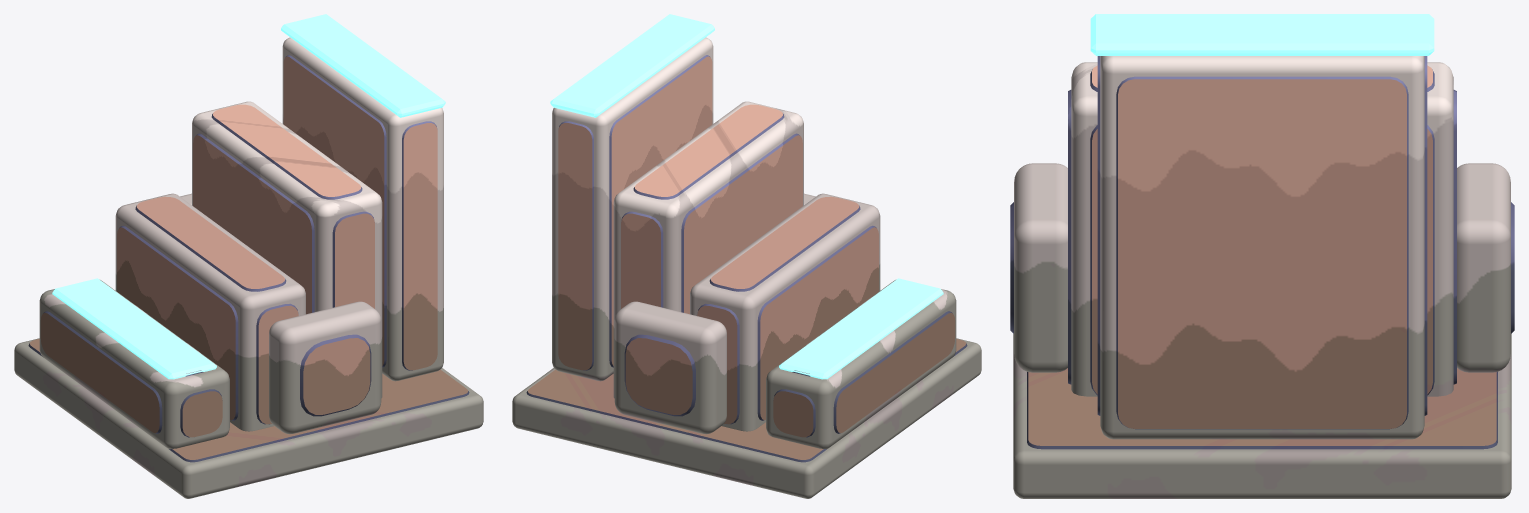
The model's file is R4X_ModuleAmplifier.glb.
3 views of the same model, side by side, from view 1: azimuth 30°, elevation 25°; view 2: azimuth 150°, elevation 25°; view 3: azimuth 270°, elevation 25° (orthographic). The views are drawn at different scales.
Parts seen in each view (by area): view 1: R4X_ModuleAmplifier_Body; view 2: R4X_ModuleAmplifier_Body; view 3: R4X_ModuleAmplifier_Body.
Boxes of the visible parts, x1,y1,x2,y2 form: R4X_ModuleAmplifier_Body: (14, 14, 483, 498); R4X_ModuleAmplifier_Body: (512, 14, 981, 498); R4X_ModuleAmplifier_Body: (1010, 14, 1514, 498).
Size of the model in its own units: 0.514 by 0.5131 by 0.52.
Materials: 4 (3 with a texture image).
